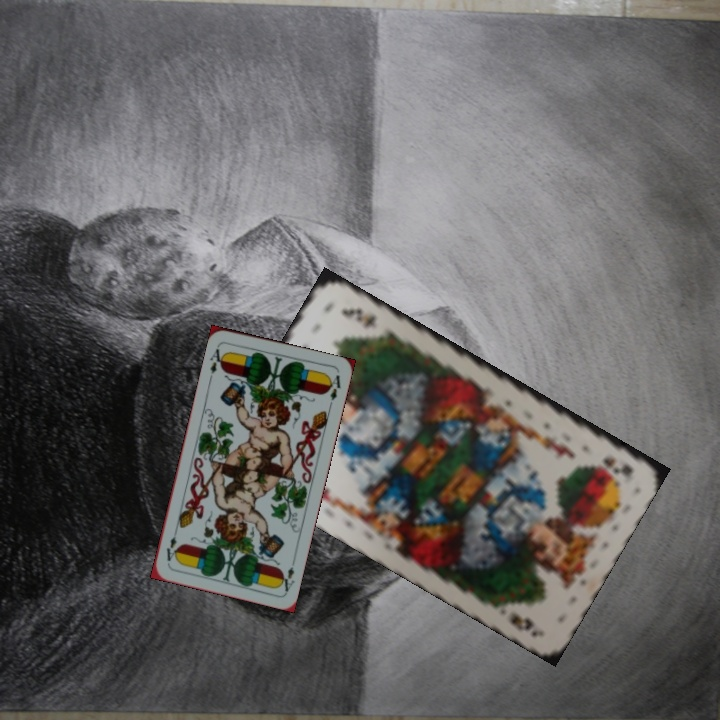EA: (206, 342, 228, 376), (275, 563, 297, 594)
SK: (598, 452, 636, 483)
